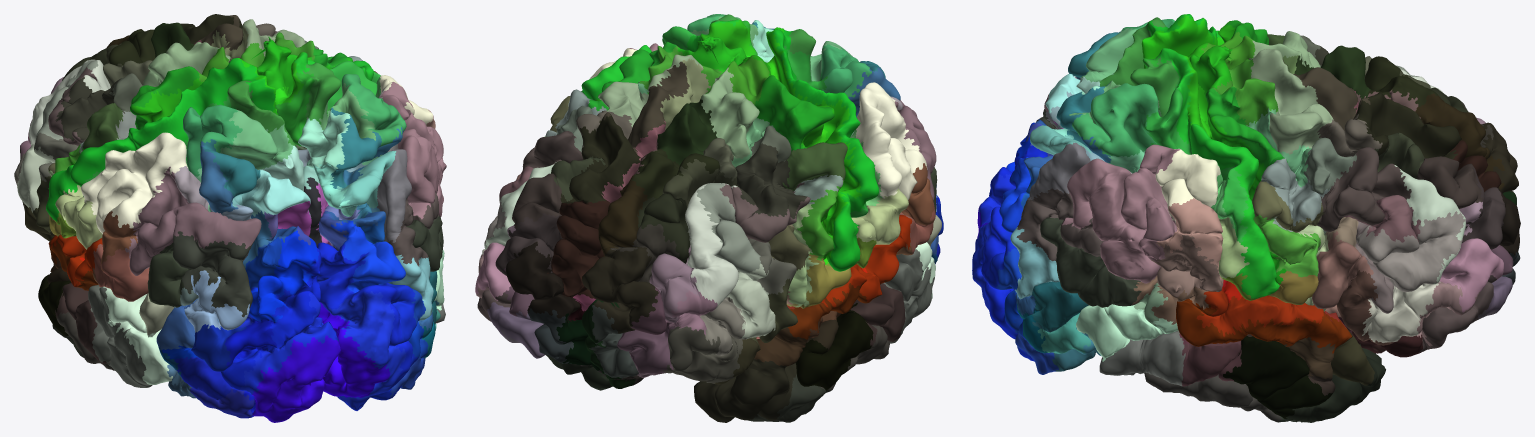
Rendered from cortex-hcp-mmp.glb.
The picture shows the model from 3 angles, left to right: view 1: azimuth 30°, elevation 25°; view 2: azimuth 150°, elevation 25°; view 3: azimuth 270°, elevation 25°; orthographic projection. The views are drawn at different scales.
Parts seen in each view (by area): view 1: hcp-mmp:left:51, hcp-mmp:left:149, hcp-mmp:left:148, hcp-mmp:left:1, hcp-mmp:right:4, hcp-mmp:left:151, hcp-mmp:right:149, hcp-mmp:right:5, hcp-mmp:left:5, hcp-mmp:left:13, hcp-mmp:right:1, hcp-mmp:left:133 (+75 smaller); view 2: hcp-mmp:left:148, hcp-mmp:left:51, hcp-mmp:left:131, hcp-mmp:left:72, hcp-mmp:right:69, hcp-mmp:right:70, hcp-mmp:left:132, hcp-mmp:left:84, hcp-mmp:left:67, hcp-mmp:left:77, hcp-mmp:right:72, hcp-mmp:left:54 (+76 smaller); view 3: hcp-mmp:right:149, hcp-mmp:right:51, hcp-mmp:right:83, hcp-mmp:right:132, hcp-mmp:right:47, hcp-mmp:right:44, hcp-mmp:right:67, hcp-mmp:right:125, hcp-mmp:right:150, hcp-mmp:right:70, hcp-mmp:right:137, hcp-mmp:right:175 (+71 smaller).
Part boxes in pixels (bbox=[...]): hcp-mmp:left:51: bbox=[46, 58, 275, 224]; hcp-mmp:left:149: bbox=[125, 166, 261, 275]; hcp-mmp:left:148: bbox=[81, 132, 187, 233]; hcp-mmp:left:1: bbox=[252, 335, 340, 422]; hcp-mmp:right:4: bbox=[317, 244, 406, 410]; hcp-mmp:left:151: bbox=[172, 231, 253, 317]; hcp-mmp:right:149: bbox=[380, 82, 446, 219]; hcp-mmp:right:5: bbox=[317, 242, 412, 396]; hcp-mmp:left:5: bbox=[221, 242, 321, 390]; hcp-mmp:left:13: bbox=[248, 230, 318, 322]; hcp-mmp:right:1: bbox=[317, 302, 390, 397]; hcp-mmp:left:133: bbox=[88, 285, 152, 387]; hcp-mmp:left:148: bbox=[855, 82, 927, 200]; hcp-mmp:left:51: bbox=[768, 29, 878, 271]; hcp-mmp:left:131: bbox=[694, 359, 796, 422]; hcp-mmp:left:72: bbox=[581, 247, 658, 333]; hcp-mmp:right:69: bbox=[547, 200, 610, 298]; hcp-mmp:right:70: bbox=[560, 114, 640, 203]; hcp-mmp:left:132: bbox=[795, 303, 873, 390]; hcp-mmp:left:84: bbox=[685, 183, 738, 308]; hcp-mmp:left:67: bbox=[735, 143, 807, 218]; hcp-mmp:left:77: bbox=[662, 326, 742, 383]; hcp-mmp:right:72: bbox=[506, 241, 580, 321]; hcp-mmp:left:54: bbox=[754, 75, 834, 151]; hcp-mmp:right:149: bbox=[1062, 144, 1179, 283]; hcp-mmp:right:51: bbox=[1158, 48, 1279, 298]; hcp-mmp:right:83: bbox=[1356, 211, 1465, 292]; hcp-mmp:right:132: bbox=[1223, 336, 1332, 419]; hcp-mmp:right:47: bbox=[1072, 83, 1158, 157]; hcp-mmp:right:44: bbox=[1250, 49, 1333, 154]; hcp-mmp:right:67: bbox=[1317, 147, 1411, 231]; hcp-mmp:right:125: bbox=[1176, 298, 1351, 353]; hcp-mmp:right:150: bbox=[1040, 216, 1141, 307]; hcp-mmp:right:70: bbox=[1356, 92, 1461, 159]; hcp-mmp:right:137: bbox=[1076, 304, 1178, 361]; hcp-mmp:right:175: bbox=[1196, 290, 1327, 336].
Size of the model in its own units: 0.1311 by 0.1212 by 0.1746.
